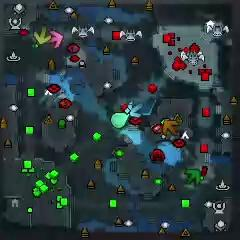p2: (111, 111, 130, 128)
x1: (46, 30, 63, 47)
x2: (34, 26, 51, 45)
x3: (127, 100, 144, 117)
x4: (184, 168, 201, 186)
x5: (162, 120, 178, 136)
